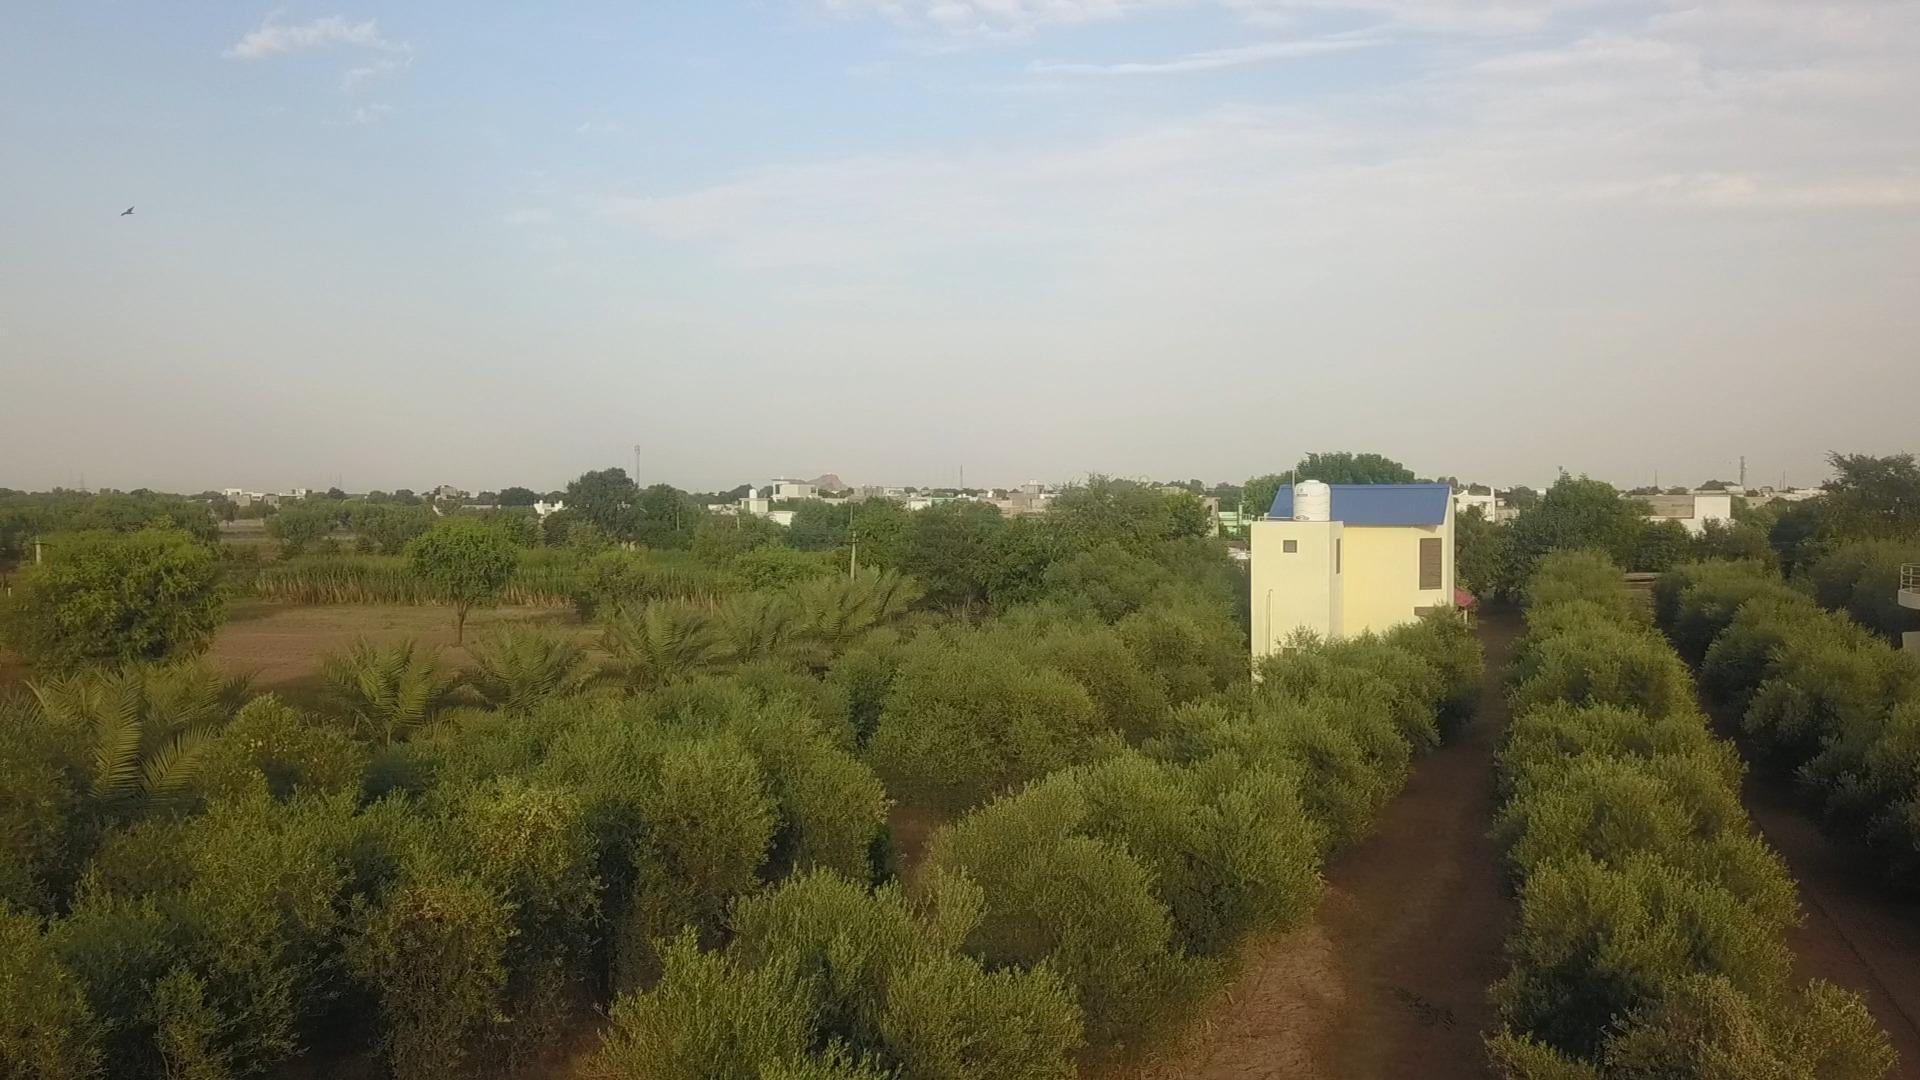canopy: (0, 603, 1242, 1076), (588, 620, 1481, 1079), (1487, 551, 1894, 1079), (1673, 560, 1919, 851)
road: (1158, 608, 1522, 1079), (1745, 775, 1919, 1079)
